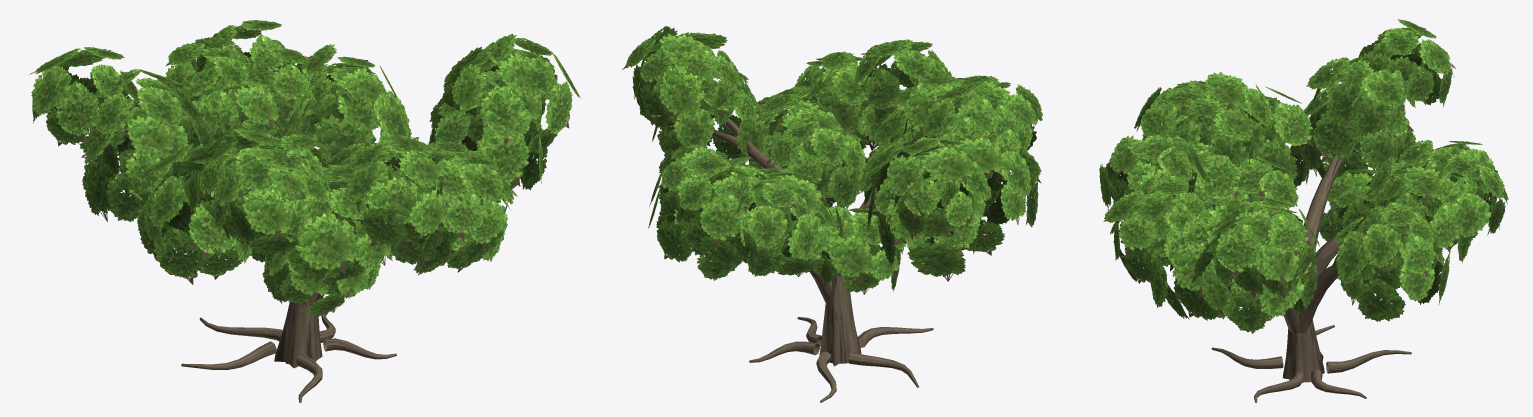
Rendered from rain-tree.glb.
3 views of the same model, side by side, from view 1: azimuth 30°, elevation 25°; view 2: azimuth 150°, elevation 25°; view 3: azimuth 270°, elevation 25° (orthographic). The views are drawn at different scales.
Parts seen in each view (by area): view 1: BigTree-rain-tree; view 2: BigTree-rain-tree; view 3: BigTree-rain-tree.
Boxes of the visible parts, box(x1,y1,x2,y2) form: BigTree-rain-tree: box(29, 20, 580, 402); BigTree-rain-tree: box(622, 26, 1042, 402); BigTree-rain-tree: box(1099, 19, 1508, 402).
Size of the model in its own units: 18.91 by 12 by 16.31.
Materials: 1 (1 with a texture image).
